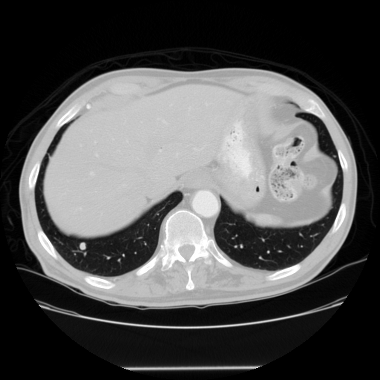nodule: (78, 242, 86, 250)
